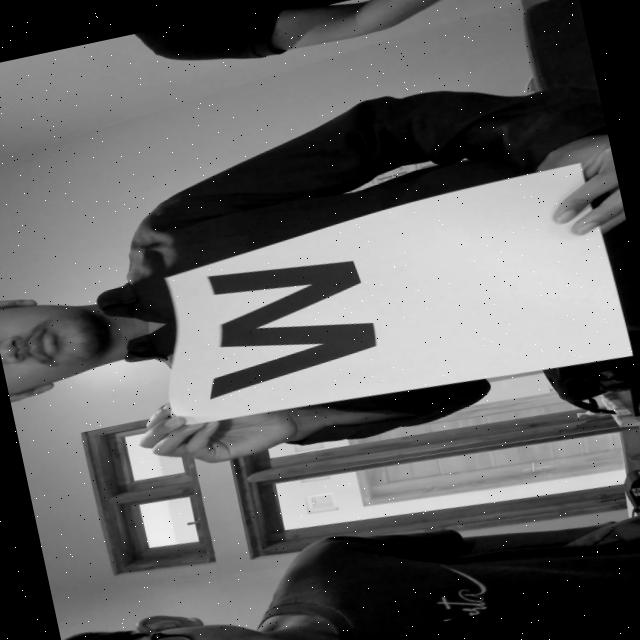w: (156, 210, 432, 411)
